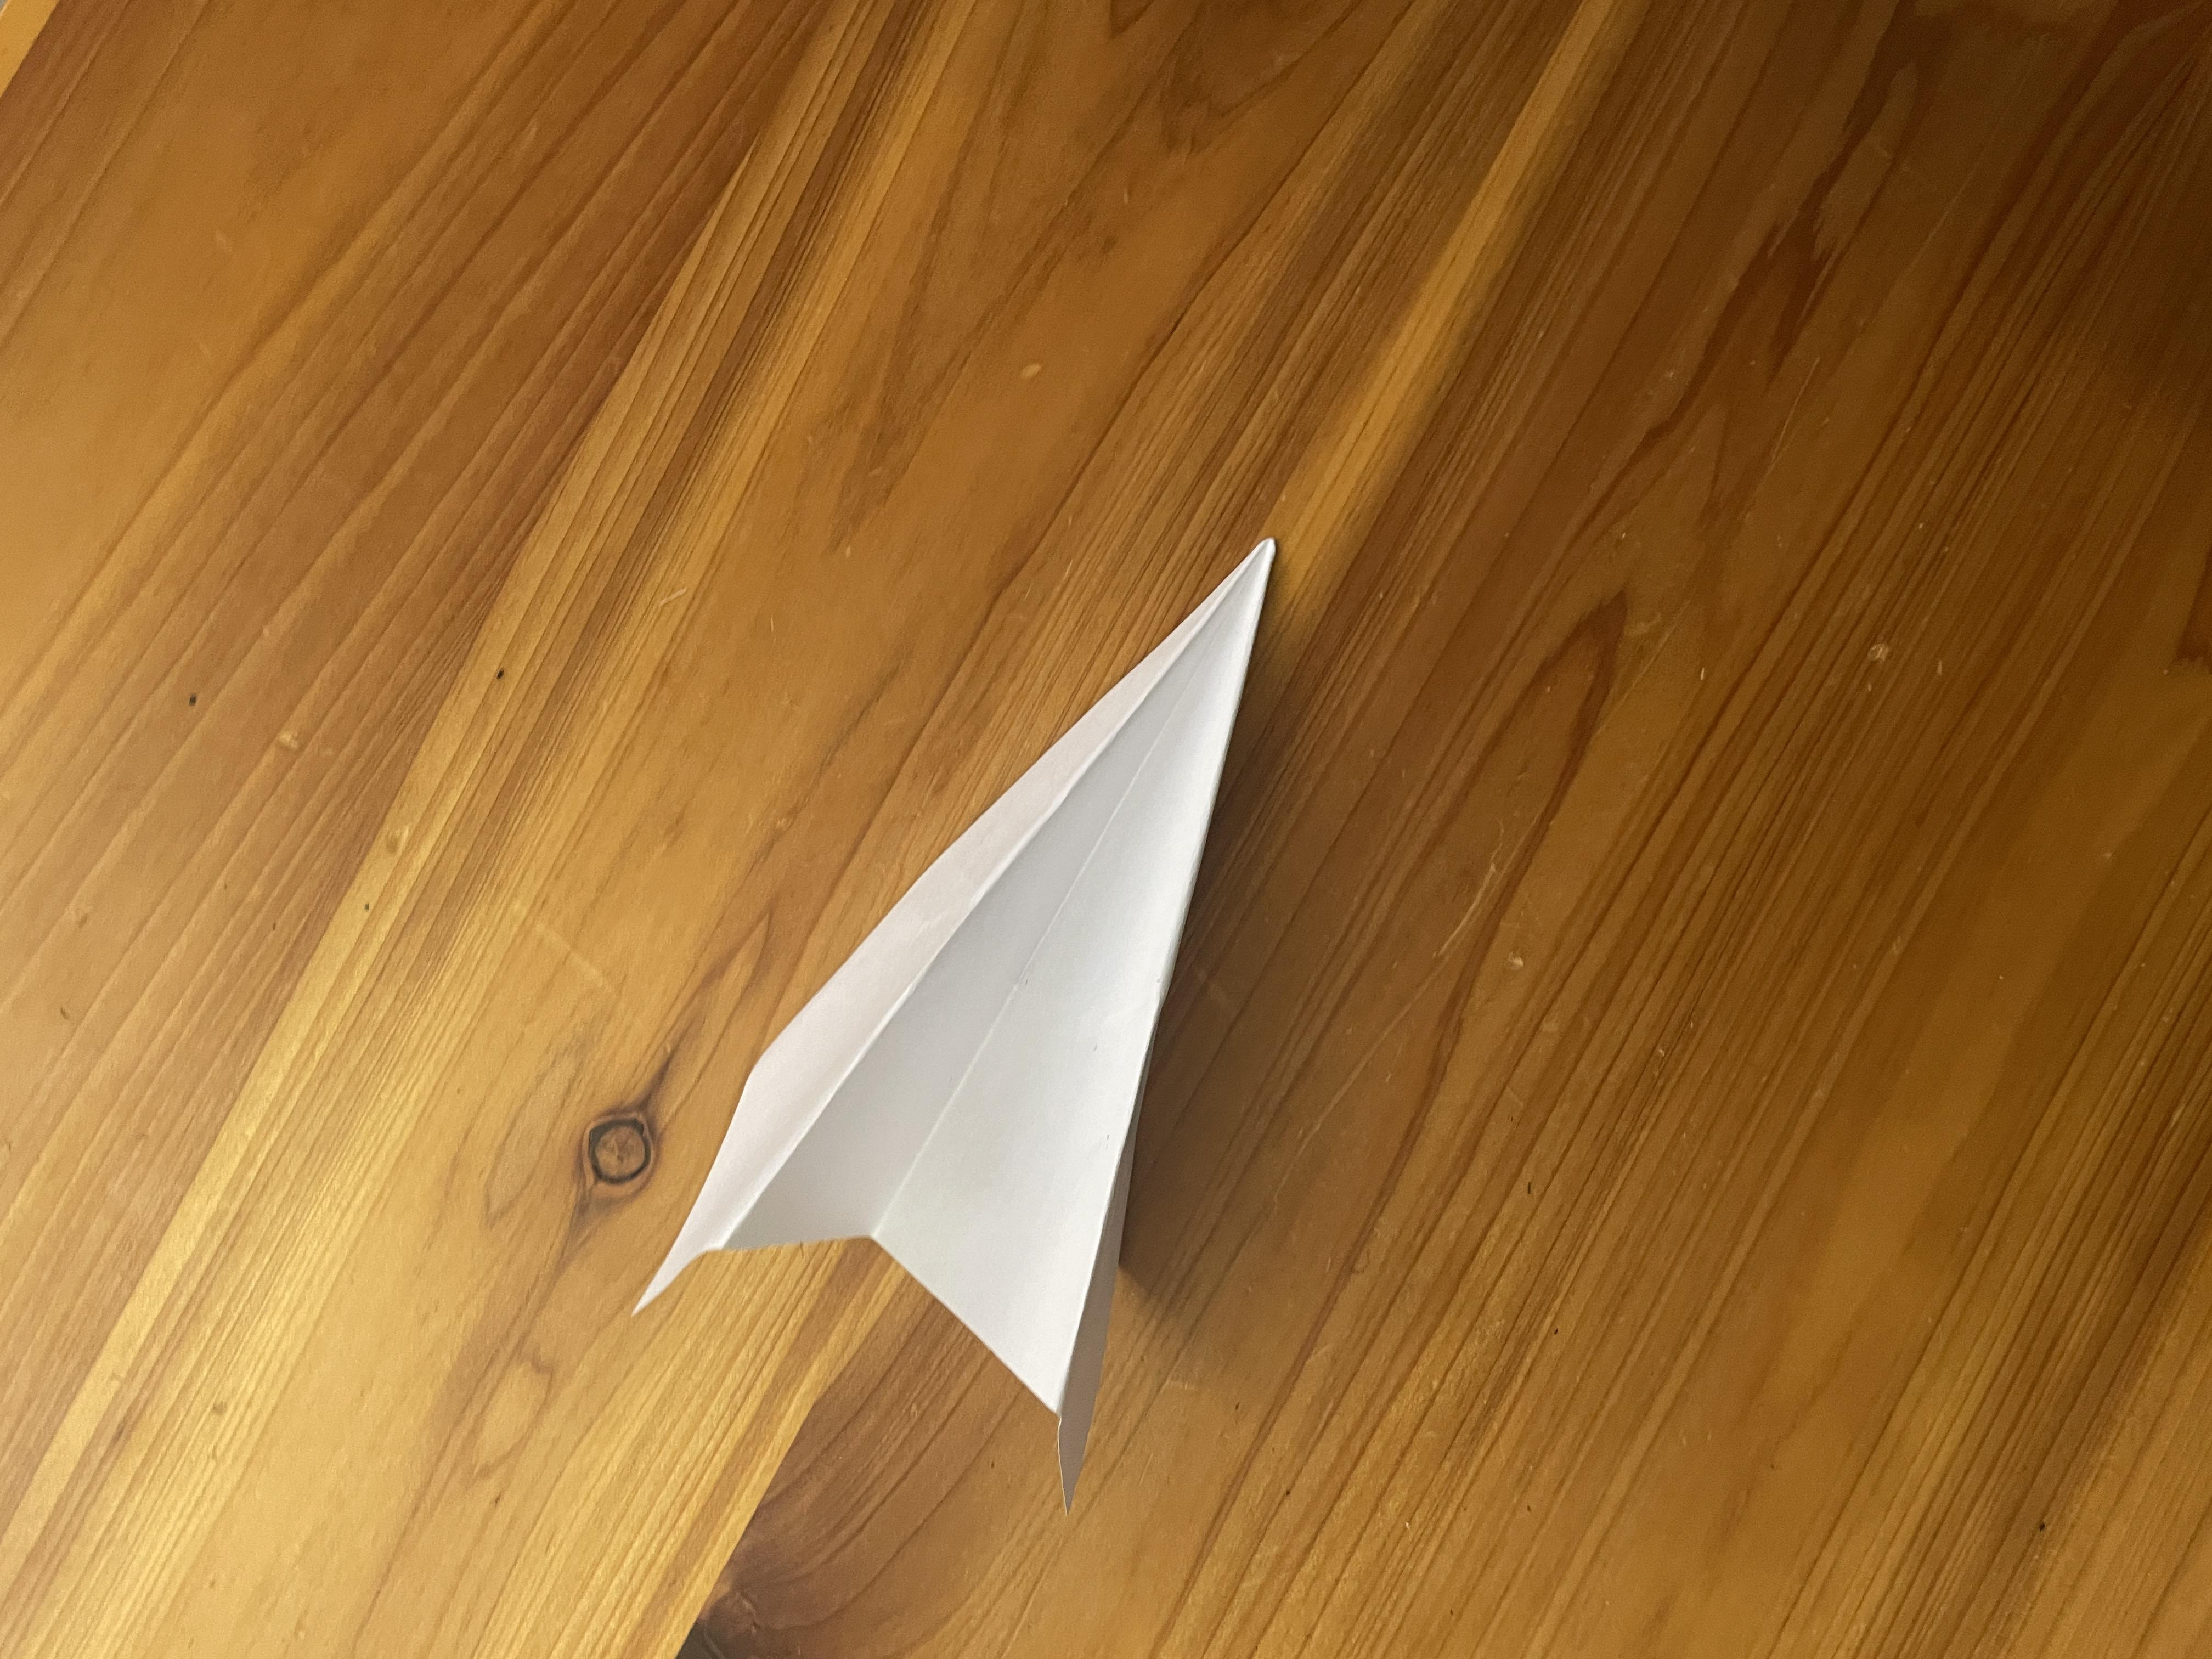shape_3: (601, 477, 1345, 1525)
